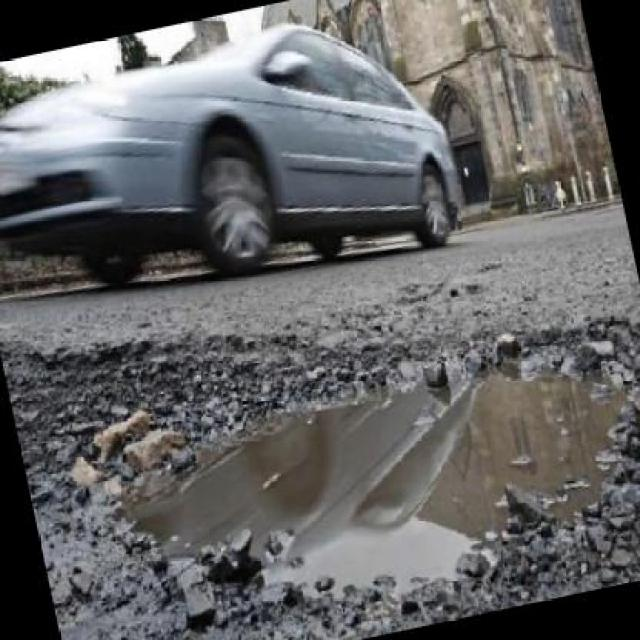pothole1: (72, 270, 638, 638)
